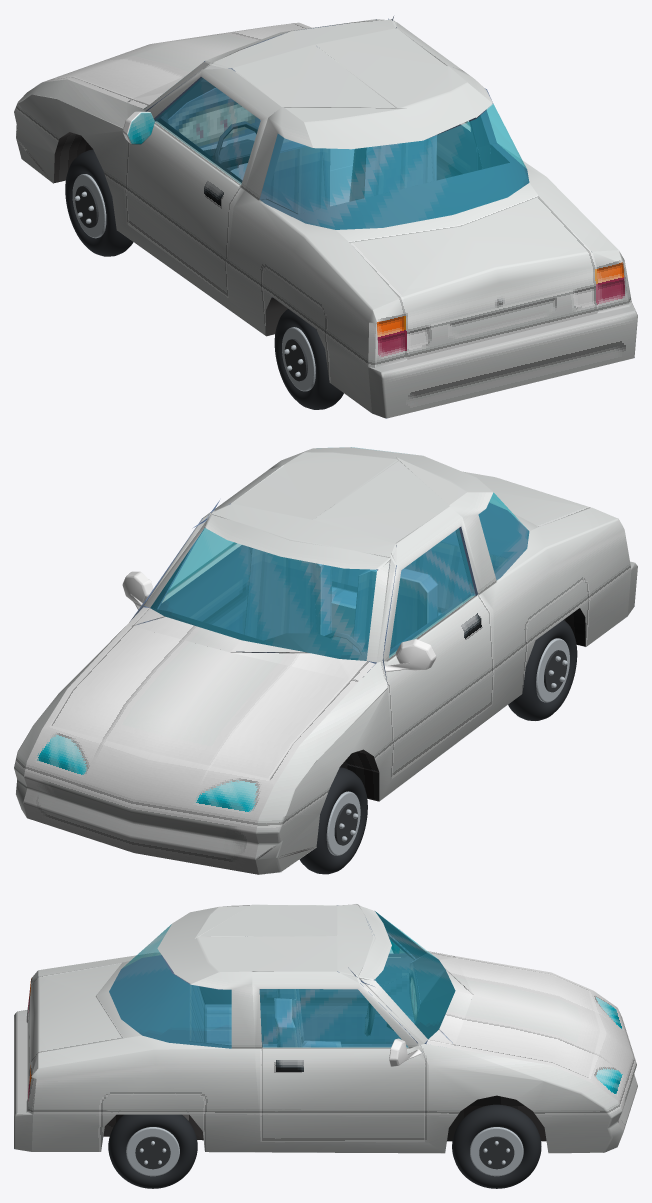
The model's file is car-elect_v.glb.
3 renders of one model, top to bottom at view 1: azimuth 30°, elevation 25°; view 2: azimuth 150°, elevation 25°; view 3: azimuth 270°, elevation 25°, orthographic. The views are drawn at different scales.
Visible parts, largest first — view 1: elect_vShape.002, TrunkRotShape.009, elect_vShape.005, elect_vShape.001, elect_vShape.007, elect_vShape.008, DoorDRotShape.061, HoodRotShape.008, DoorDRotShape.064, Rounded tire.090, Rounded tire.089, DoorPRotShape.070 (+8 smaller); view 2: elect_vShape.002, elect_vShape.004, HoodRotShape.008, elect_vShape.007, elect_vShape.005, DoorDRotShape.061, elect_vShape.008, DoorDRotShape.064, DoorPRotShape.070, Rounded tire.090, Rounded tire.089, TrunkRotShape.009 (+10 smaller); view 3: elect_vShape.002, elect_vShape.003, DoorPRotShape.068, elect_vShape.005, elect_vShape.007, HoodRotShape.008, elect_vShape.008, DoorPRotShape.071, elect_vShape.004, DoorDRotShape.063, TrunkRotShape.009, Rounded tire.091 (+9 smaller).
Boxes of the visible parts, x1=… form: elect_vShape.002: x1=14, y1=19, x2=618, y2=412; TrunkRotShape.009: x1=350, y1=197, x2=598, y2=359; elect_vShape.005: x1=161, y1=19, x2=634, y2=418; elect_vShape.001: x1=336, y1=183, x2=637, y2=418; elect_vShape.007: x1=260, y1=104, x2=528, y2=229; elect_vShape.008: x1=232, y1=28, x2=492, y2=149; DoorDRotShape.061: x1=124, y1=68, x2=281, y2=296; HoodRotShape.008: x1=52, y1=23, x2=305, y2=98; DoorDRotShape.064: x1=154, y1=78, x2=260, y2=184; Rounded tire.090: x1=65, y1=149, x2=133, y2=256; Rounded tire.089: x1=274, y1=309, x2=343, y2=409; DoorPRotShape.070: x1=388, y1=16, x2=476, y2=180; elect_vShape.002: x1=14, y1=449, x2=634, y2=874; elect_vShape.004: x1=23, y1=607, x2=375, y2=874; HoodRotShape.008: x1=51, y1=626, x2=350, y2=778; elect_vShape.007: x1=151, y1=447, x2=528, y2=660; elect_vShape.005: x1=133, y1=502, x2=529, y2=681; DoorDRotShape.061: x1=383, y1=507, x2=494, y2=780; elect_vShape.008: x1=231, y1=447, x2=492, y2=545; DoorDRotShape.064: x1=389, y1=528, x2=475, y2=657; DoorPRotShape.070: x1=130, y1=500, x2=249, y2=634; Rounded tire.090: x1=299, y1=767, x2=367, y2=874; Rounded tire.089: x1=508, y1=620, x2=577, y2=720; TrunkRotShape.009: x1=463, y1=471, x2=590, y2=526; elect_vShape.002: x1=17, y1=904, x2=623, y2=1153; elect_vShape.003: x1=31, y1=1048, x2=444, y2=1153; DoorPRotShape.068: x1=255, y1=1045, x2=428, y2=1142; elect_vShape.005: x1=14, y1=911, x2=455, y2=1149; elect_vShape.007: x1=109, y1=911, x2=455, y2=1048; HoodRotShape.008: x1=455, y1=957, x2=599, y2=1077; elect_vShape.008: x1=157, y1=904, x2=337, y2=983; DoorPRotShape.071: x1=260, y1=989, x2=407, y2=1047; elect_vShape.004: x1=426, y1=951, x2=637, y2=1131; DoorDRotShape.063: x1=259, y1=905, x2=415, y2=1045; TrunkRotShape.009: x1=27, y1=963, x2=122, y2=1096; Rounded tire.091: x1=452, y1=1104, x2=541, y2=1188.
Bounding box in the file's own units: 2.49 × 1.97 × 5.3.
Materials: 13 (10 with a texture image).
